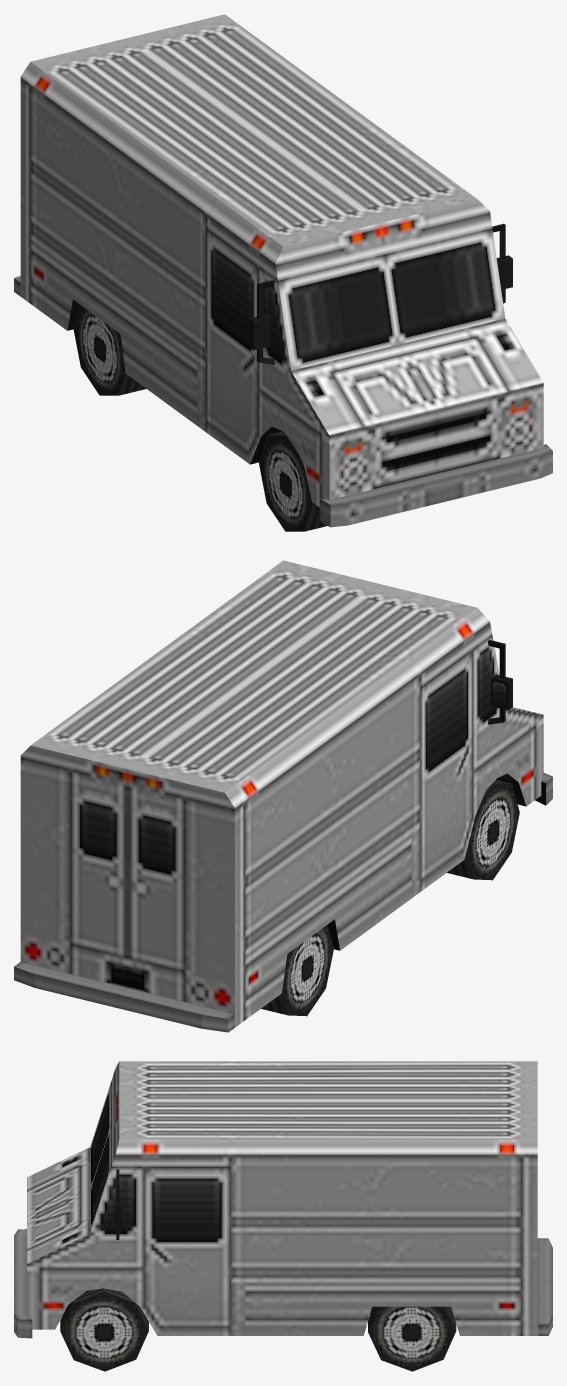
Rendered from Auto7blanco.fbx.
3 renders of one model, top to bottom at view 1: azimuth 30°, elevation 25°; view 2: azimuth 150°, elevation 25°; view 3: azimuth 270°, elevation 25°, orthographic. The views are drawn at different scales.
Visible parts, largest first — view 1: Car8; view 2: Car8; view 3: Car8.
Part boxes in pixels (<box>): Car8: <box>14,14,552,531</box>; Car8: <box>14,560,552,1032</box>; Car8: <box>14,1061,552,1371</box>.
Size of the model in its own units: 317 by 323 by 689.
